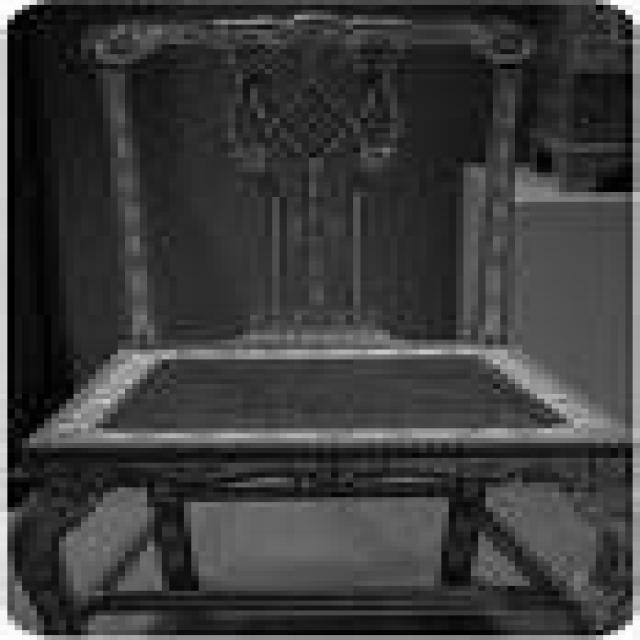chair: (7, 10, 633, 635)
